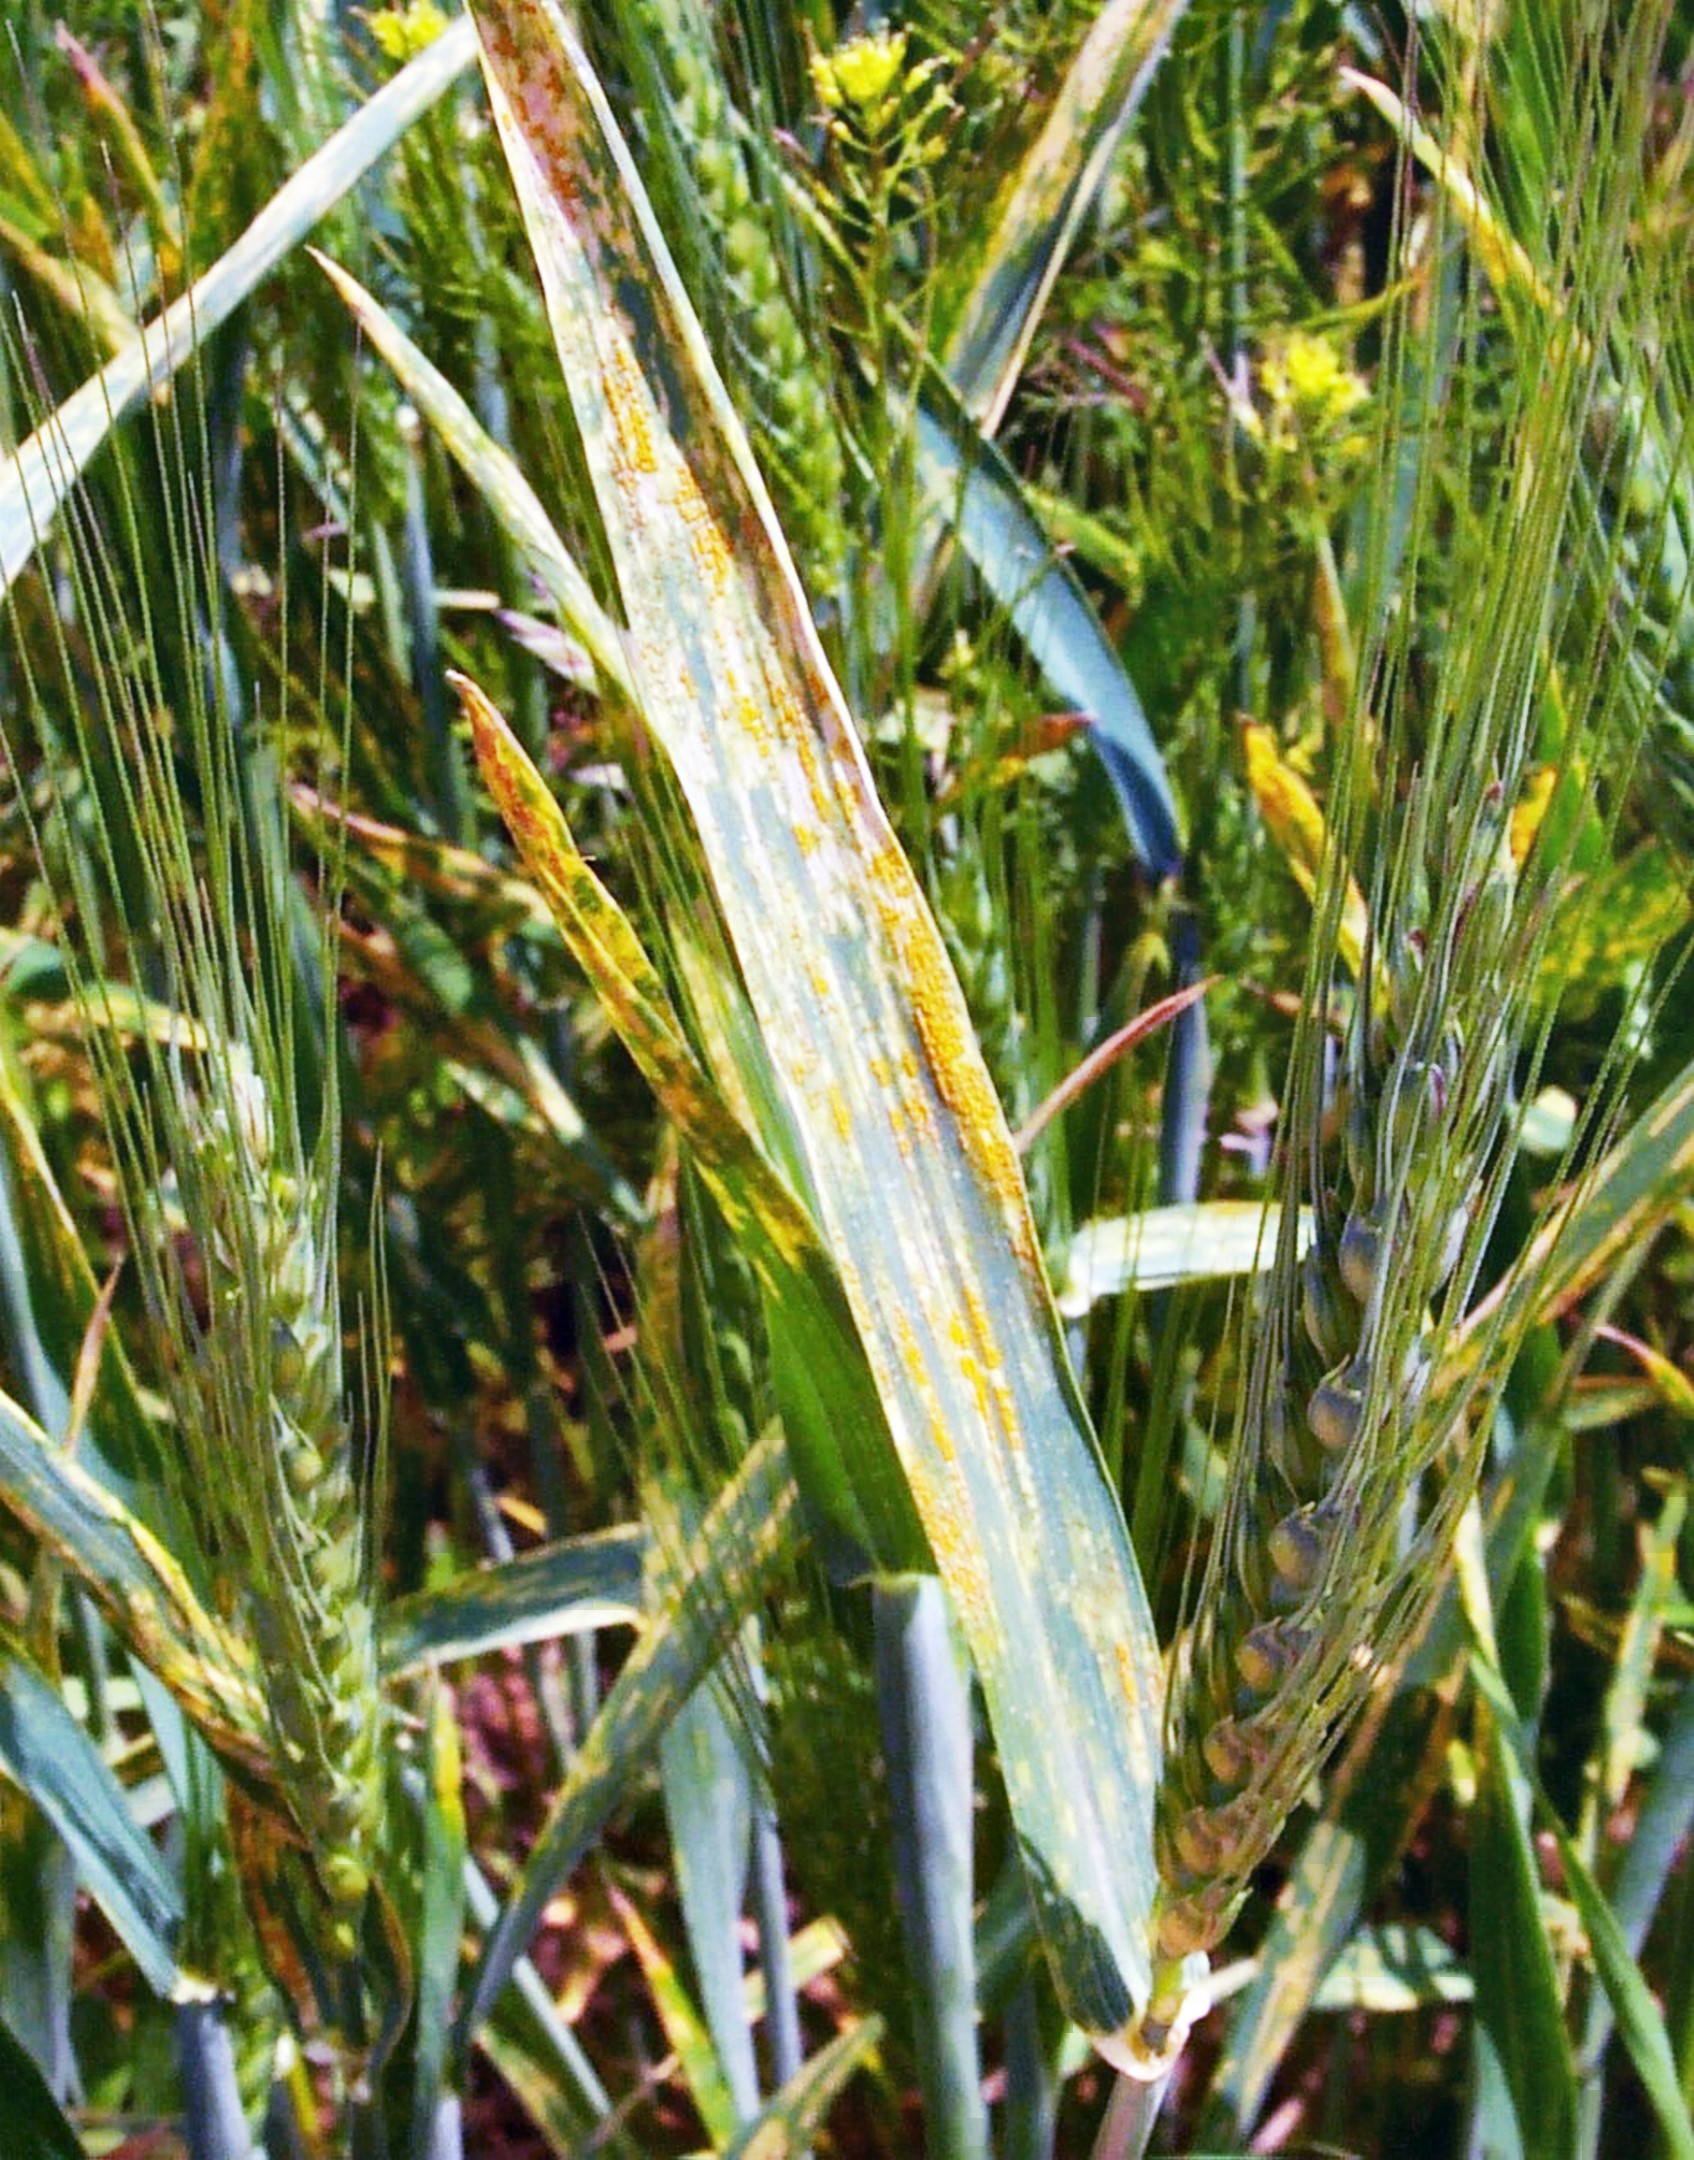Leaf Rust: (586, 361, 1122, 1231)
